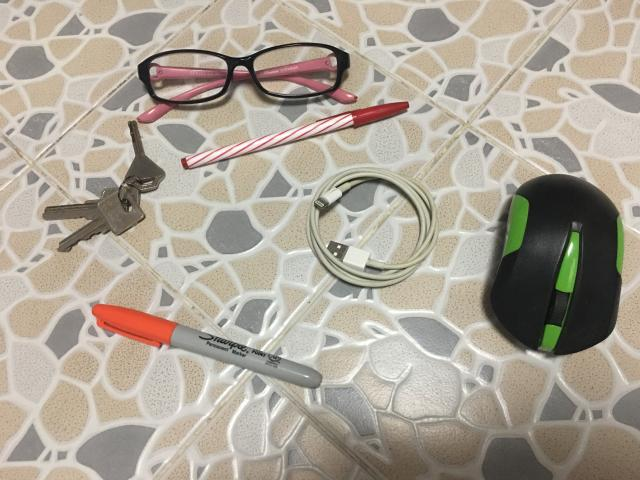Glasses: (138, 42, 356, 122)
Keys: (42, 121, 165, 251)
Mouse: (490, 174, 624, 355)
Pen: (92, 304, 322, 389), (181, 101, 409, 169)
wire: (306, 168, 439, 288)
